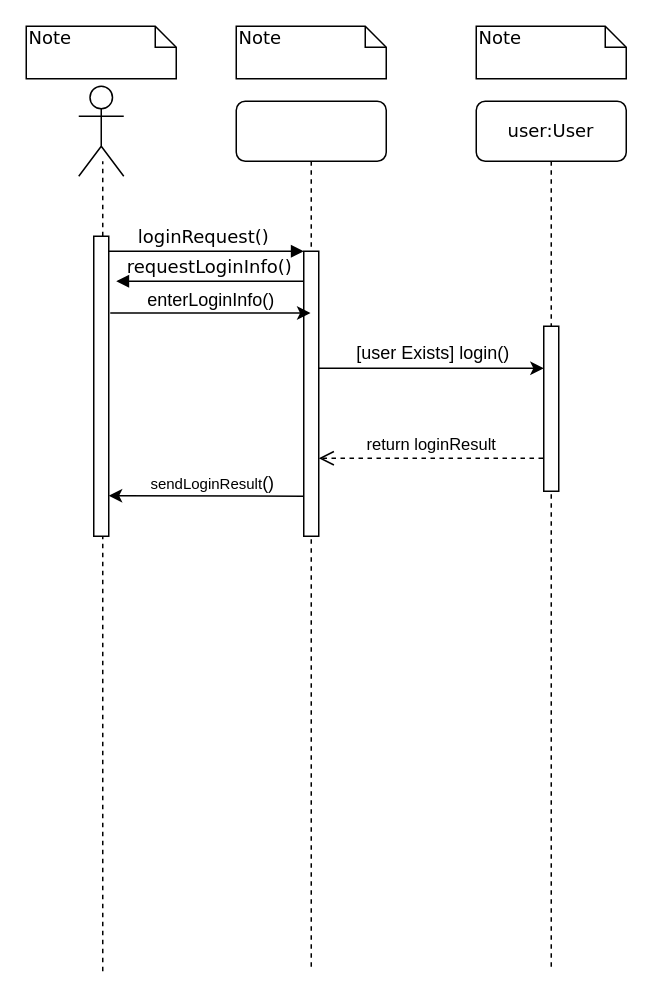
Some shapes in this 653 by 999 pixel diagram are drawn without their labels. Here are the shapes that lost their labels. From the top down, the centre of each, then its label:
the point at 100,130: user
the point at 310,535: Scrum Officer System
